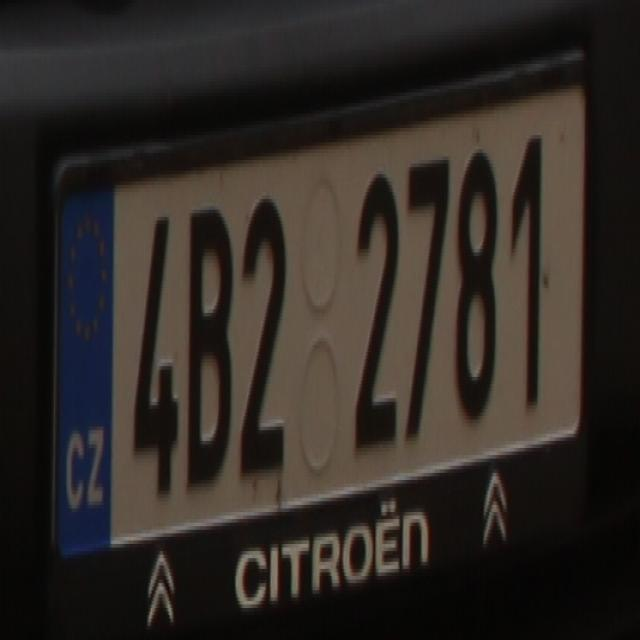1: (512, 135, 545, 395)
2: (236, 199, 285, 480), (354, 160, 396, 452)
4: (133, 217, 179, 505)
7: (402, 160, 450, 437)
8: (456, 146, 496, 420)
B: (187, 210, 230, 483)
